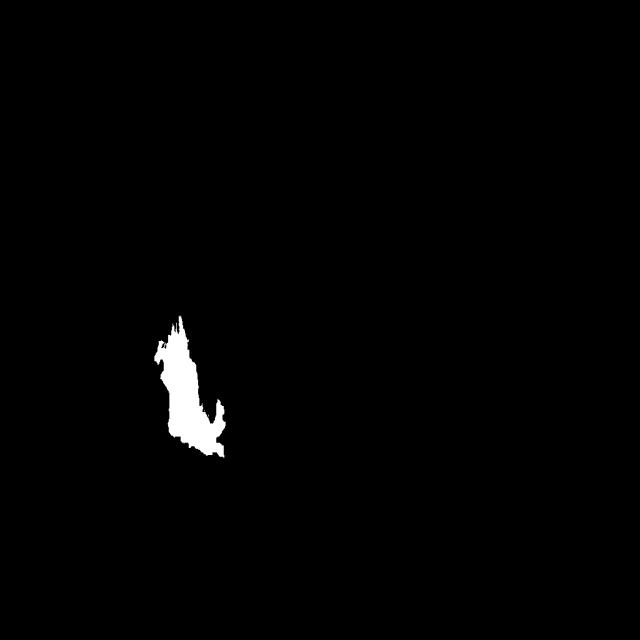fire: (140, 282, 240, 523)
